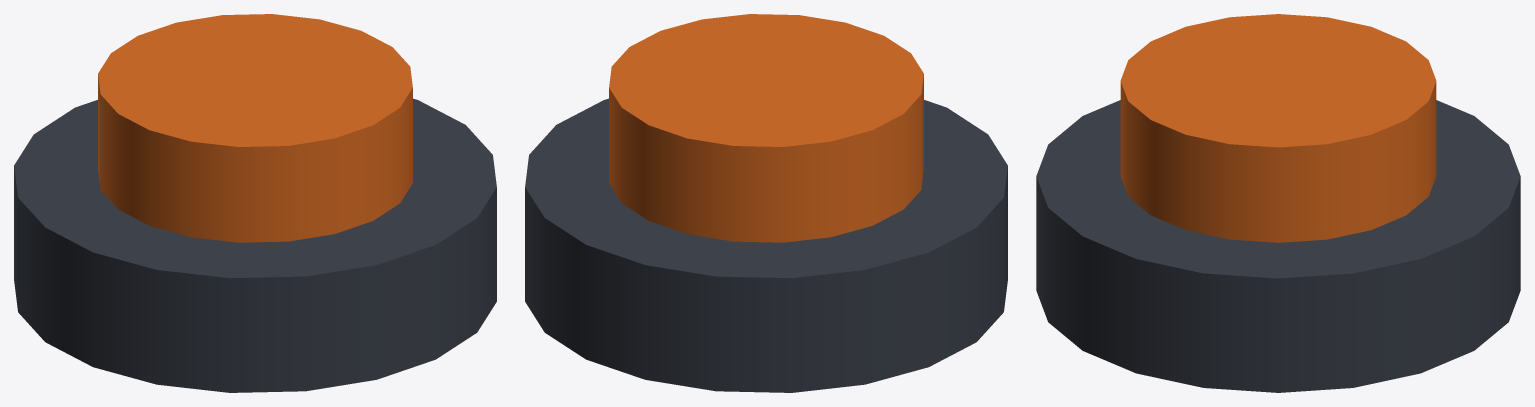
Rendered from knob.obj.
The picture shows the model from 3 angles, left to right: view 1: azimuth 30°, elevation 25°; view 2: azimuth 150°, elevation 25°; view 3: azimuth 270°, elevation 25°; orthographic projection.
Parts seen in each view (by area): view 1: base, top; view 2: base, top; view 3: base, top.
Boxes of the visible parts, x1,y1,x2,y2 form: base: (14,98,496,392); top: (98,14,412,242); base: (525,98,1007,392); top: (609,14,923,242); base: (1036,100,1520,392); top: (1120,14,1436,242).
Bounding box in the file's own units: 0.46 × 0.22 × 0.46.
